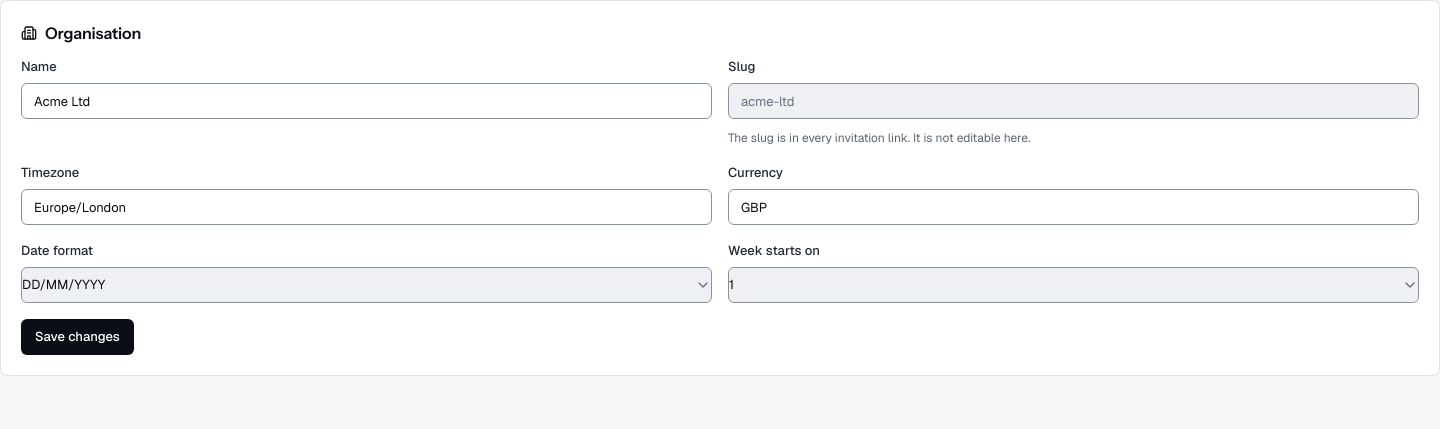
Test: saving › shows the server's message when the save is refused
Expected: the field labelled "Name" is shown, [21,83,712,119]
Click the button "Save changes" at [77, 337], box [21,319,134,355]
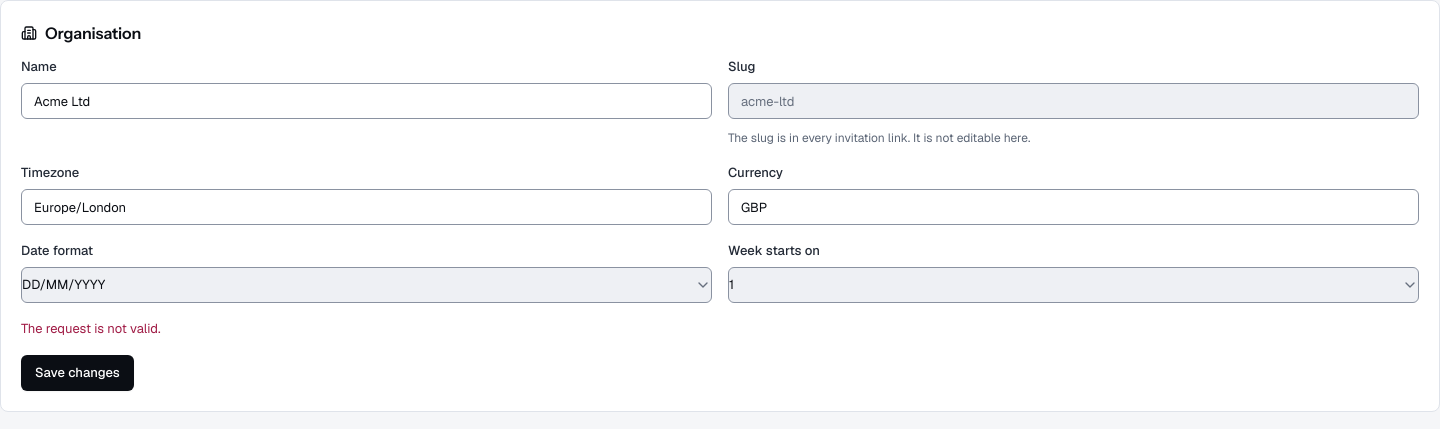
Now the text "The request is not valid." is shown, box [21,320,161,337]
